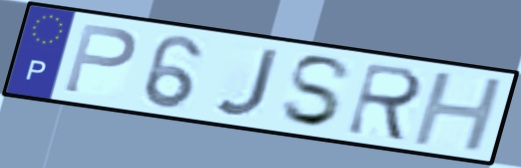6: (138, 32, 206, 112)
H: (408, 70, 509, 154)
J: (212, 47, 284, 120)
P: (59, 20, 139, 97)
R: (342, 59, 428, 145)
S: (278, 53, 356, 130)
